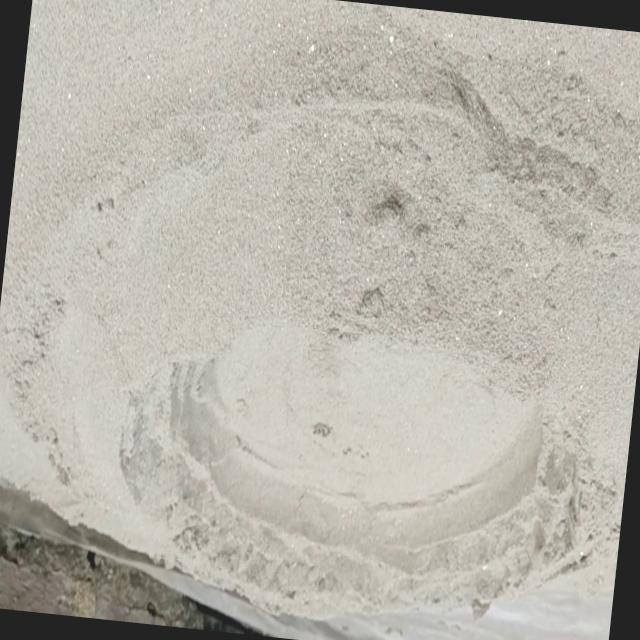C40: (178, 325, 543, 584)
